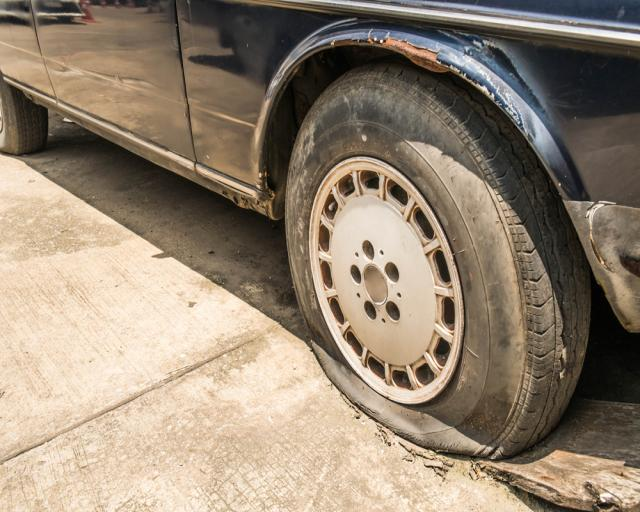tire flat: (285, 56, 591, 458)
